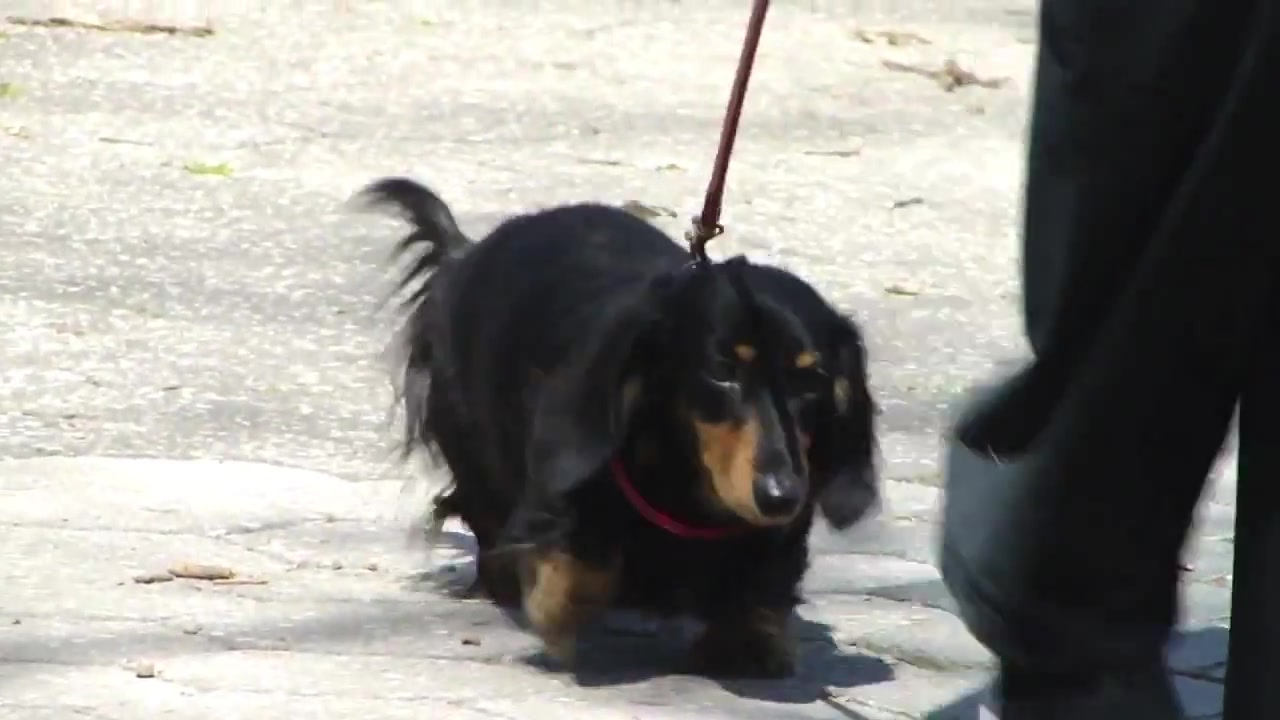dog: (343, 172, 882, 680)
